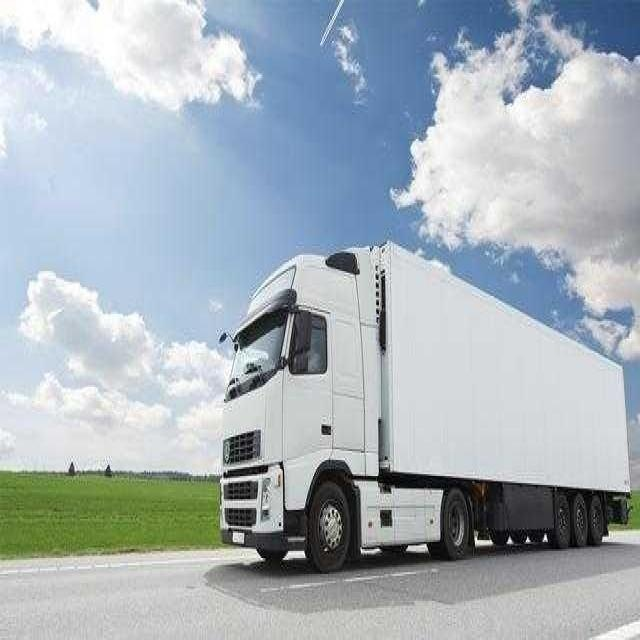Truck: (210, 232, 638, 568)
